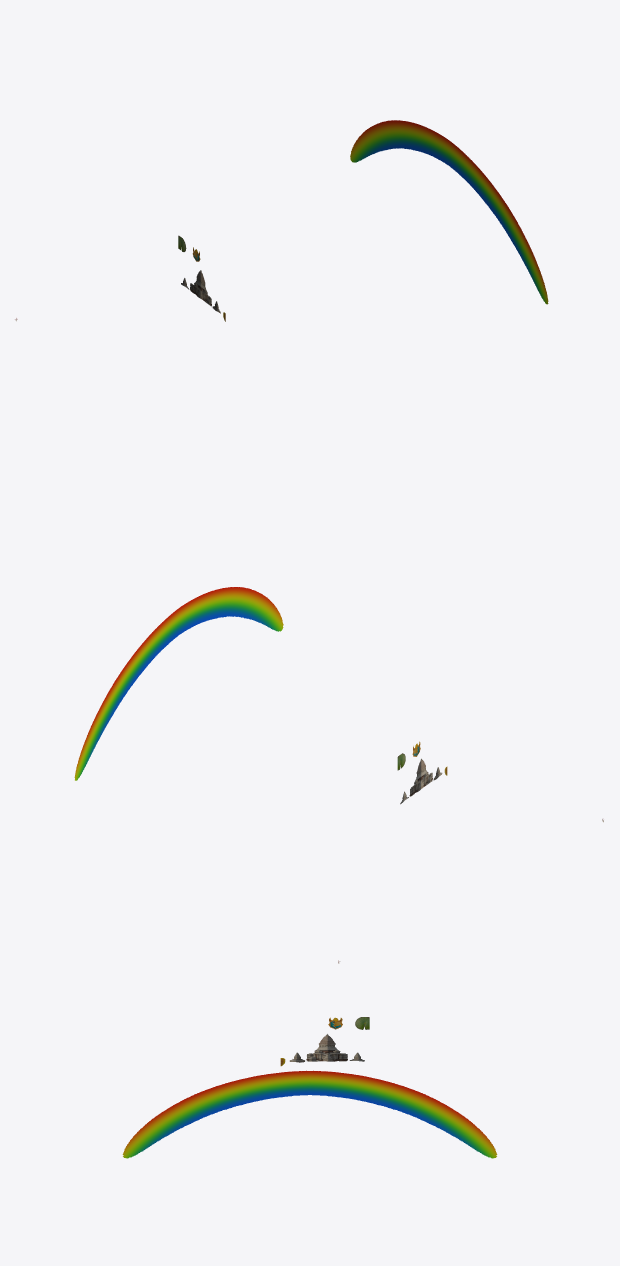
Rendered from PinkFlowertreeWithRainbowandFort.fbx.
The picture shows the model from 3 angles, top to bottom: view 1: azimuth 30°, elevation 25°; view 2: azimuth 150°, elevation 25°; view 3: azimuth 270°, elevation 25°; orthographic projection. The views are drawn at different scales.
Visible parts, largest first — view 1: Rainbow, backfort; view 2: Rainbow, backfort; view 3: Rainbow, backfort.
Part boxes in pixels (<box>): Rainbow: <box>350,120,548,304</box>; backfort: <box>178,235,225,321</box>; Rainbow: <box>74,587,283,780</box>; backfort: <box>397,741,447,804</box>; Rainbow: <box>122,1070,497,1158</box>; backfort: <box>280,1017,369,1066</box>.
Size of the model in its own units: 4454 by 2057 by 5755.
